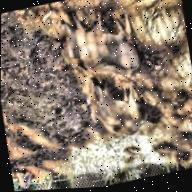boar: (58, 14, 154, 83), (86, 76, 155, 150)
